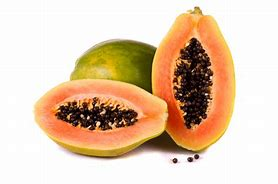papaya: (152, 8, 234, 152), (33, 81, 169, 157)
